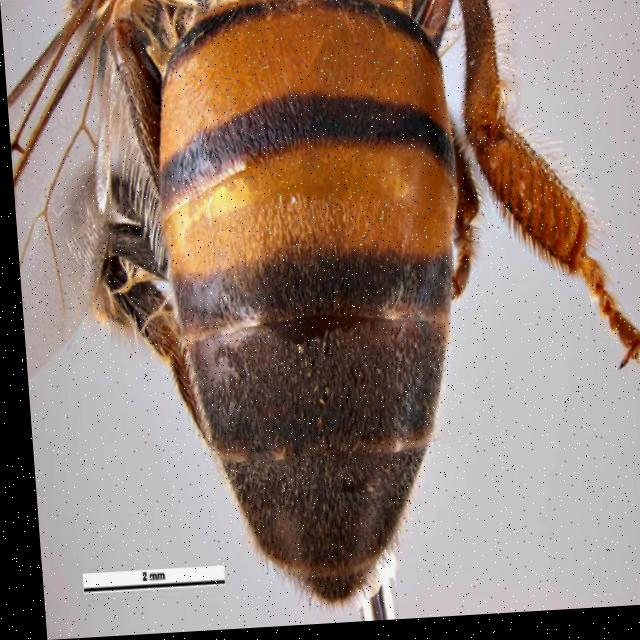Apis-mellifera-scutellata: (3, 0, 591, 622)
